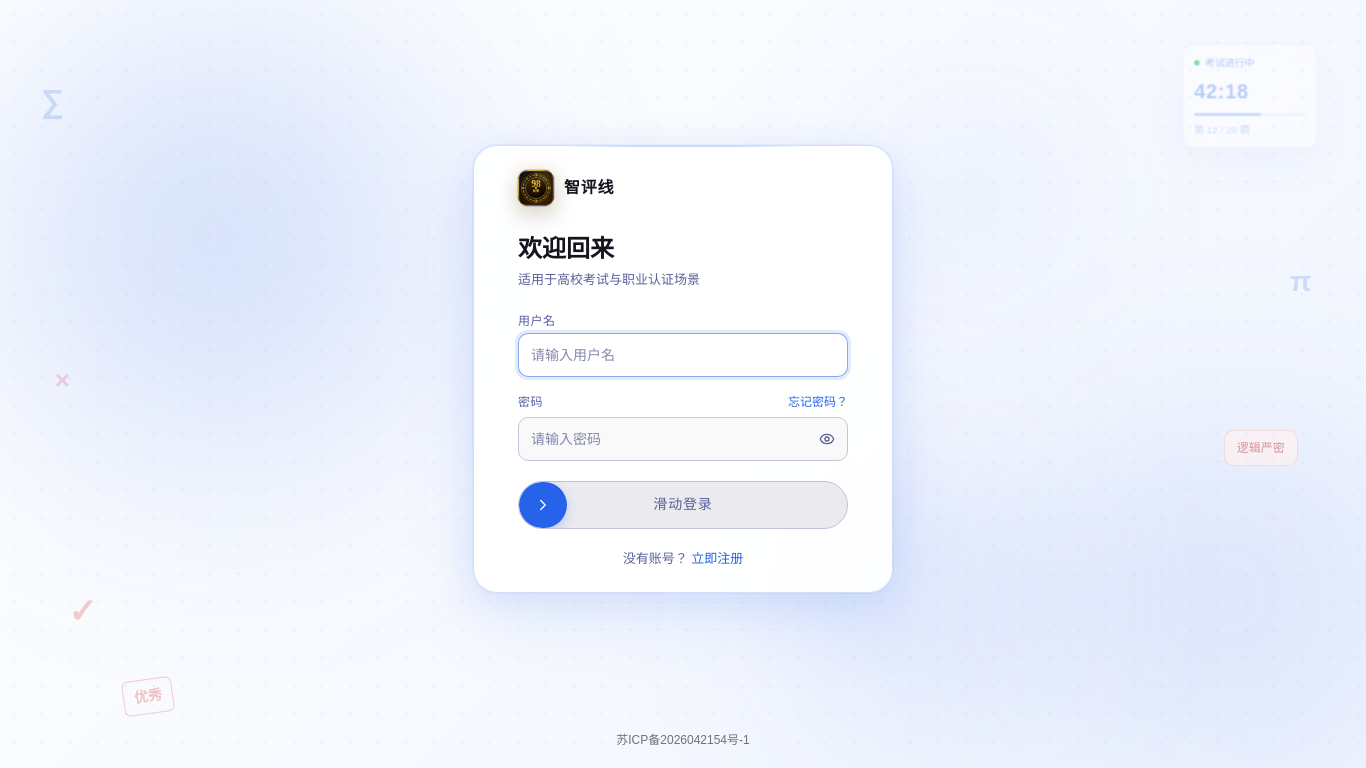
Test: LoginPage › shows forgot password result from account lookup
Click the button "忘记密码？" at (818,402), box [788,393,848,411]
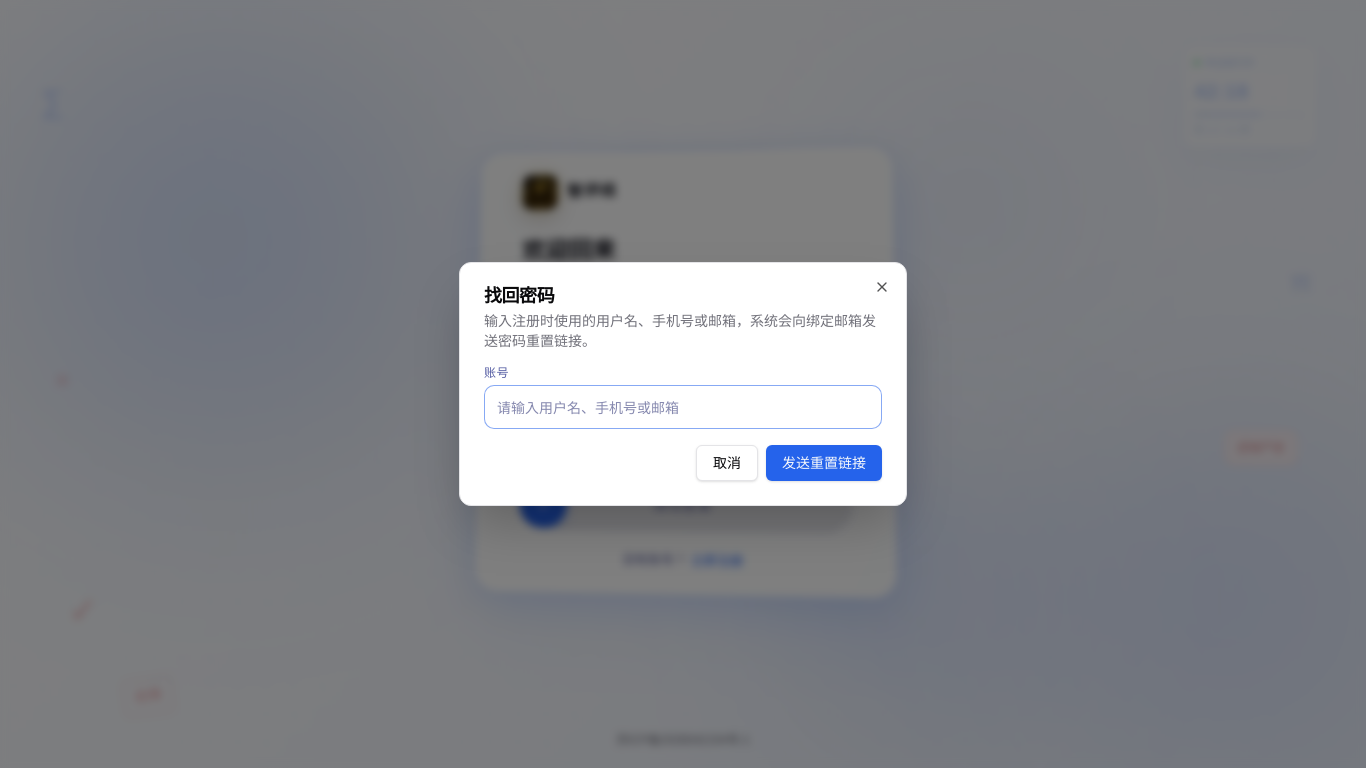
Type "no-email-user" into the field labelled "账号" at (683,407), box [484,385,882,429]
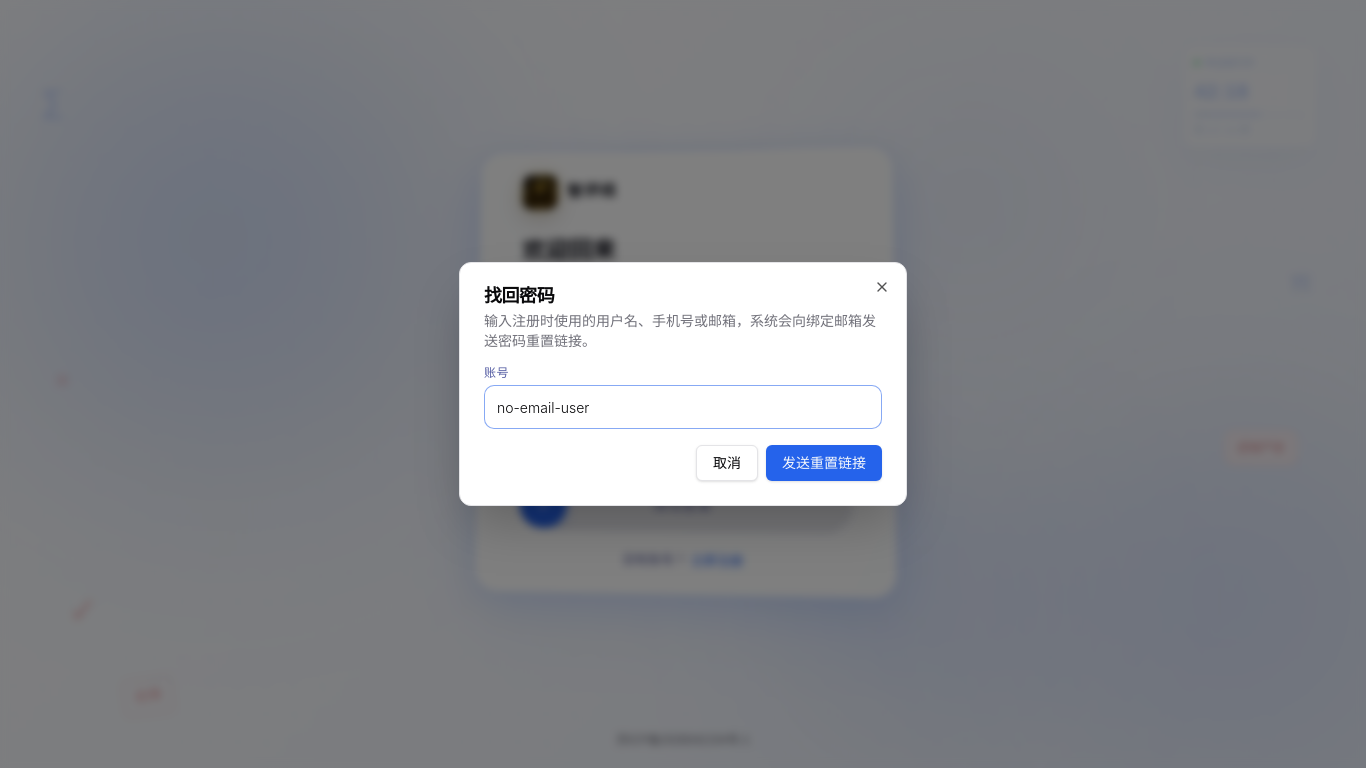
Click the button "发送重置链接" at (824,463), box [766,445,882,481]
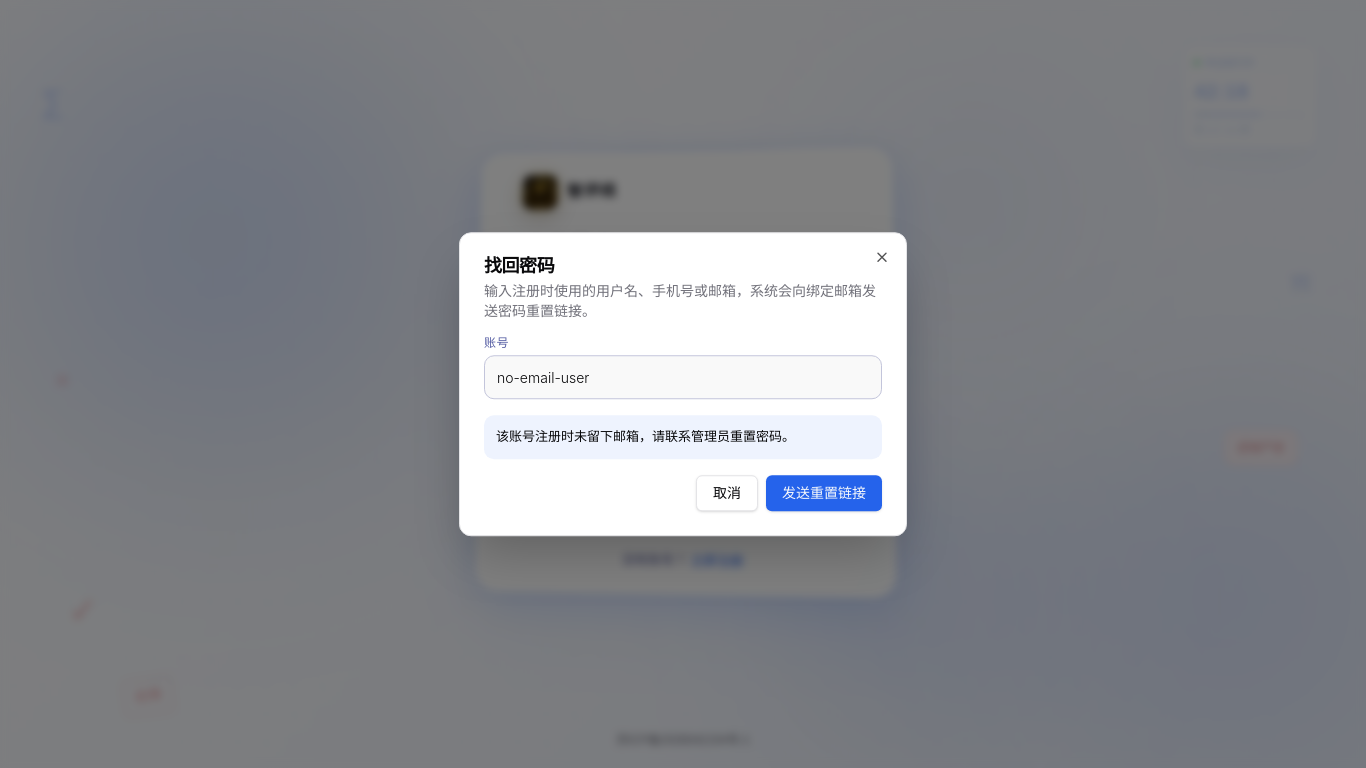
Result: the text "该账号注册时未留下邮箱，请联系管理员重置密码。" is shown at [496,428,795,444]
